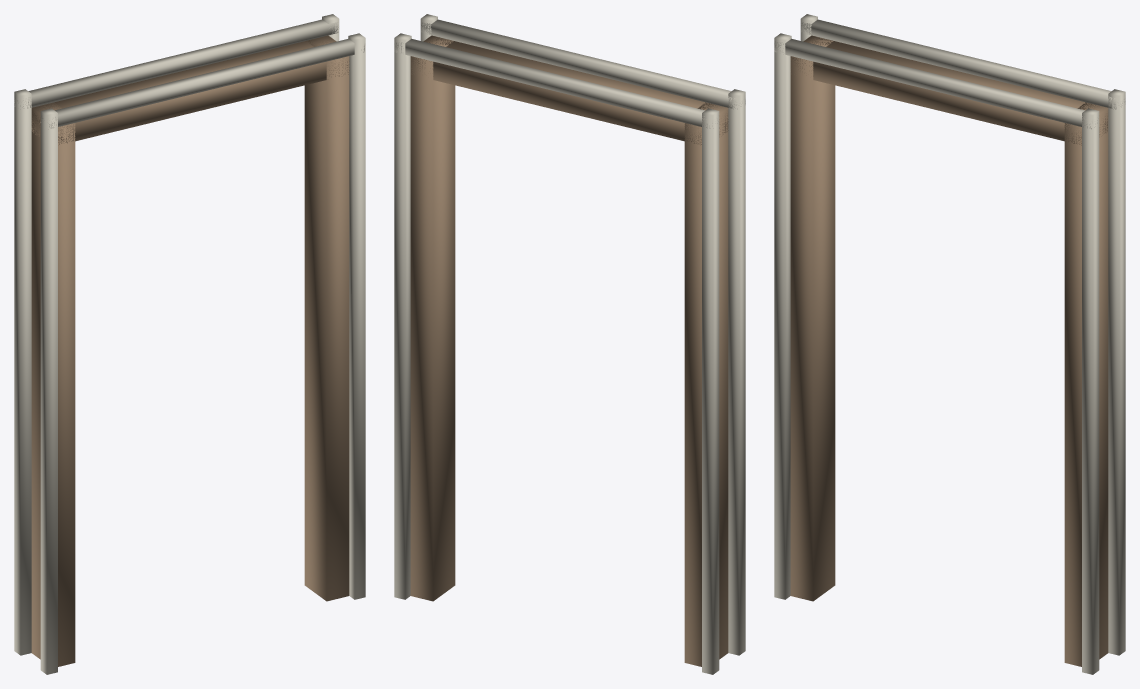
File: doorway_painted_trim_w106_h210_d16.glb
3 renders of one model, left to right at view 1: azimuth 30°, elevation 25°; view 2: azimuth 150°, elevation 25°; view 3: azimuth 330°, elevation 25°, orthographic.
Visible parts, largest first — view 1: world; view 2: world; view 3: world.
Part boxes in pixels (<box>): world: <box>14,14,365,674</box>; world: <box>394,14,745,674</box>; world: <box>774,14,1125,674</box>.
Bounding box in the file's own units: 1.34 × 2.25 × 0.2378.
